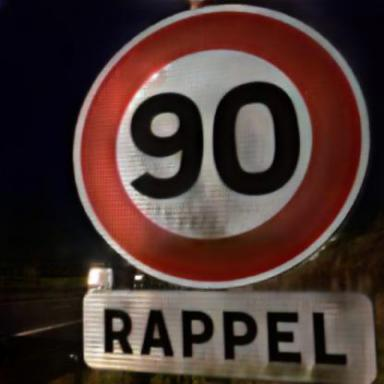Speed_limit_90: (75, 14, 362, 279)
